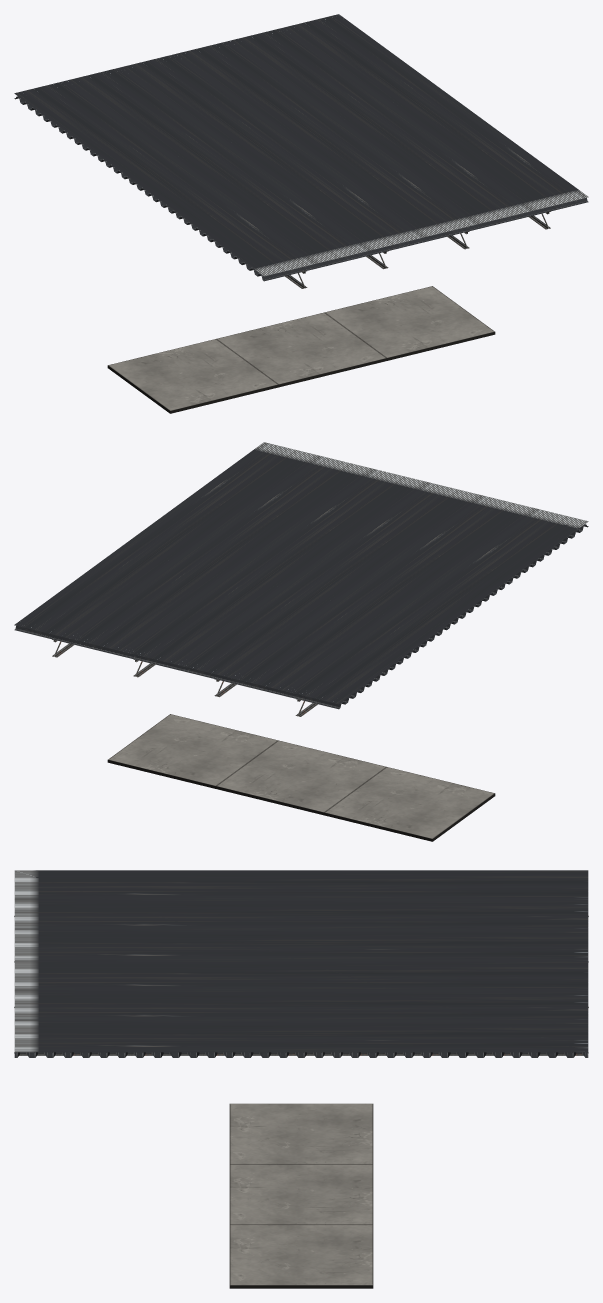
File: Corridor_Straight.fbx
3 views of the same model, one above another, from view 1: azimuth 30°, elevation 25°; view 2: azimuth 150°, elevation 25°; view 3: azimuth 270°, elevation 25° (orthographic). The views are drawn at different scales.
Visible parts, largest first — view 1: Ceiling, Floor; view 2: Ceiling, Floor; view 3: Ceiling, Floor.
Boxes of the visible parts, x1=… form: Ceiling: x1=14, y1=14, x2=588, y2=288; Floor: x1=107, y1=286, x2=495, y2=413; Ceiling: x1=14, y1=442, x2=588, y2=716; Floor: x1=107, y1=714, x2=495, y2=841; Ceiling: x1=14, y1=870, x2=588, y2=1057; Floor: x1=229, y1=1103, x2=373, y2=1288.
Bounding box in the file's own units: 24 × 14.55 × 32.06.
Materials: 2 (2 with a texture image).
